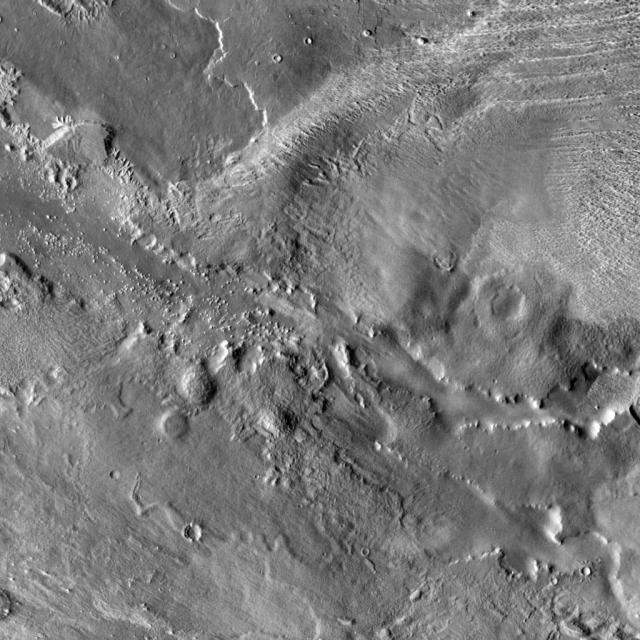crater: (433, 248, 456, 271), (185, 526, 202, 542), (110, 469, 124, 482), (67, 178, 77, 188), (582, 567, 591, 576), (362, 548, 370, 555), (306, 37, 313, 44), (274, 56, 281, 63), (1, 17, 8, 24), (552, 578, 558, 586)
